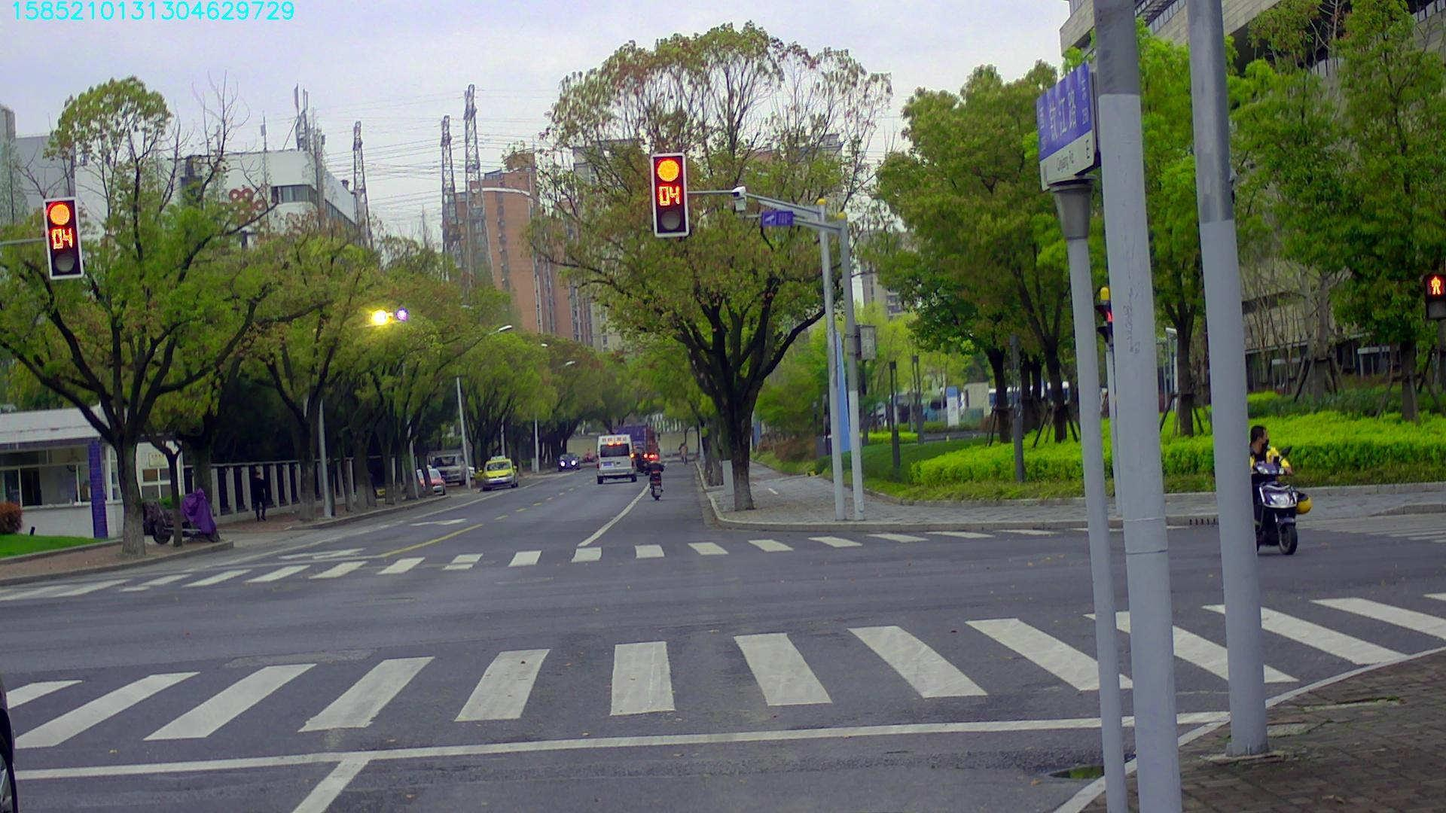red: (44, 199, 81, 277), (653, 154, 687, 234)
